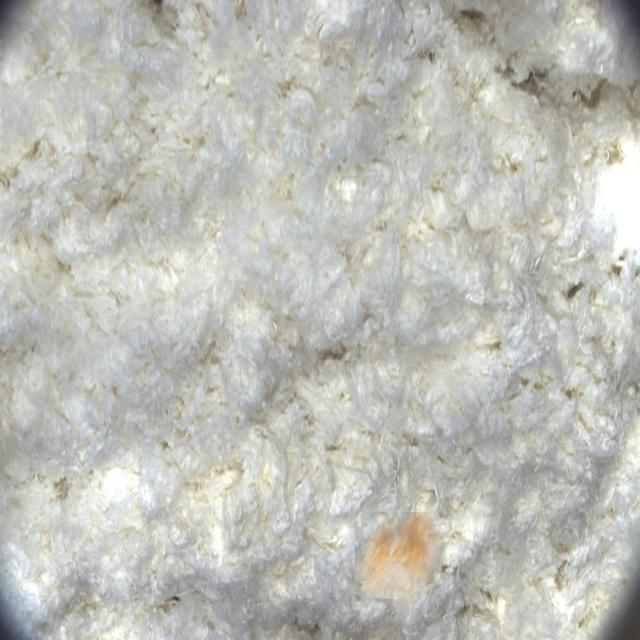dust: (355, 512, 442, 598)
